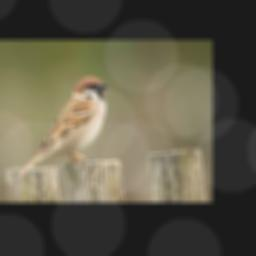Sparrow: (16, 76, 108, 182)
